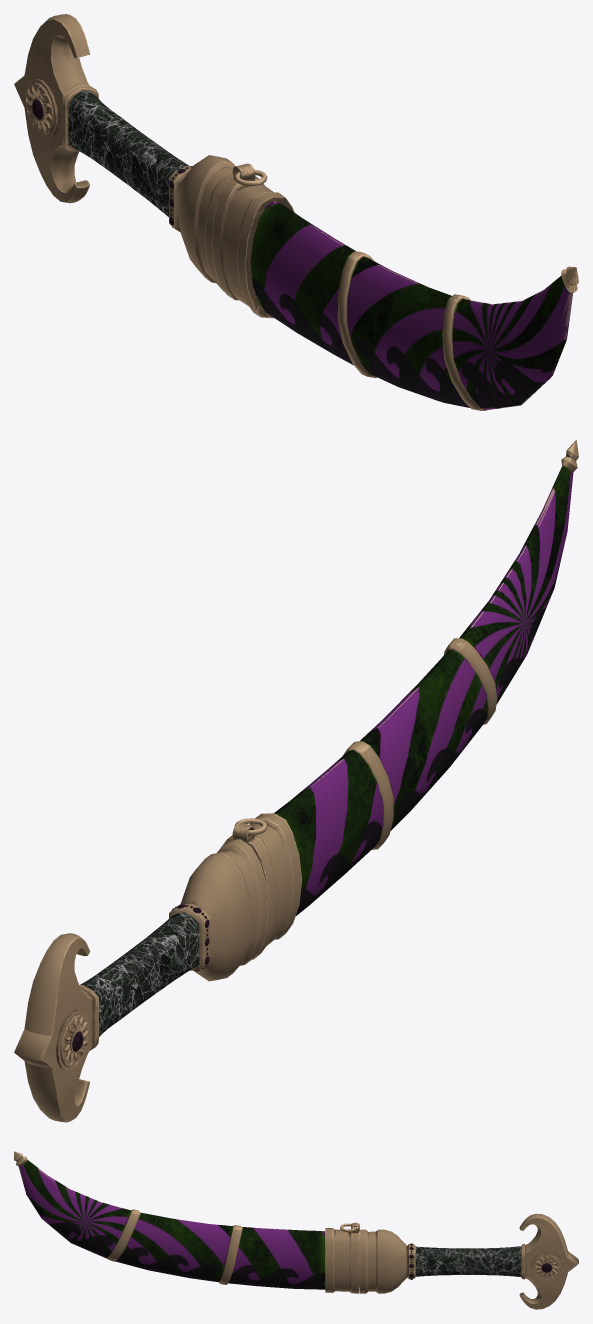
File: Durisuruya.fbx
The picture shows the model from 3 angles, top to bottom: view 1: azimuth 30°, elevation 25°; view 2: azimuth 150°, elevation 25°; view 3: azimuth 270°, elevation 25°; orthographic projection. The views are drawn at different scales.
Parts seen in each view (by area): view 1: Duri_Surya_sheath, Duri_Surya; view 2: Duri_Surya_sheath, Duri_Surya; view 3: Duri_Surya_sheath, Duri_Surya.
Boxes of the visible parts, box(x1,y1,x2,y2) form: Duri_Surya_sheath: box(212, 163, 578, 410); Duri_Surya: box(14, 14, 235, 291); Duri_Surya_sheath: box(221, 440, 578, 959); Duri_Surya: box(14, 839, 268, 1122); Duri_Surya_sheath: box(14, 1151, 359, 1293); Duri_Surya: box(359, 1213, 578, 1309).
Bounding box in the file's own units: 0.0254 × 0.1304 × 0.424.
Materials: 3 (2 with a texture image).
